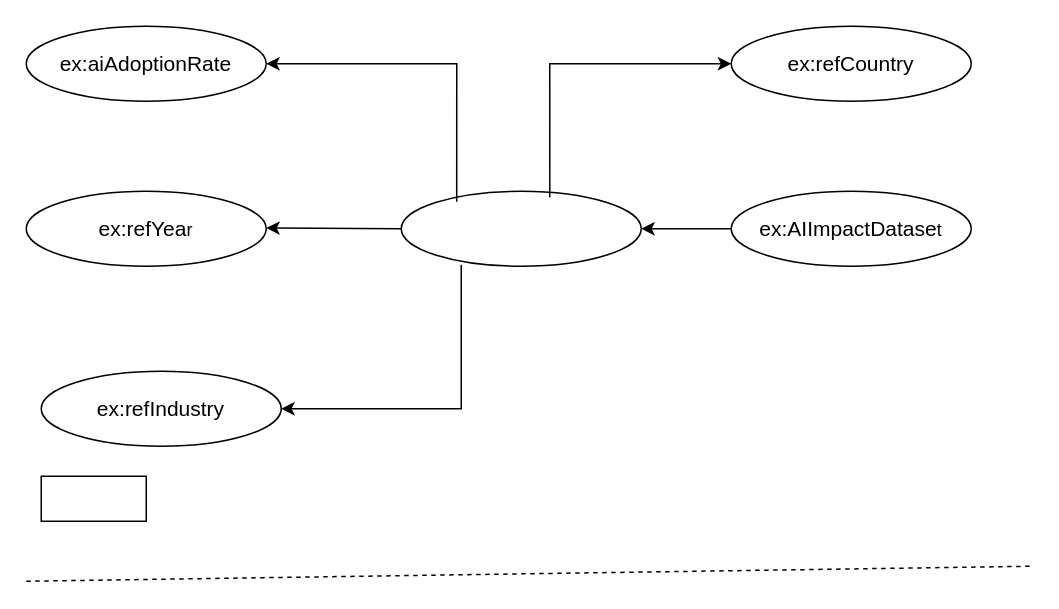
This 1059x609 diagram has some shape labels left out. Here are the shapes that lost their labels. From the top down, the box of each, then its label:
(400, 190, 641, 266): ex:AIImpactStructure
(40, 475, 146, 521): TBox
